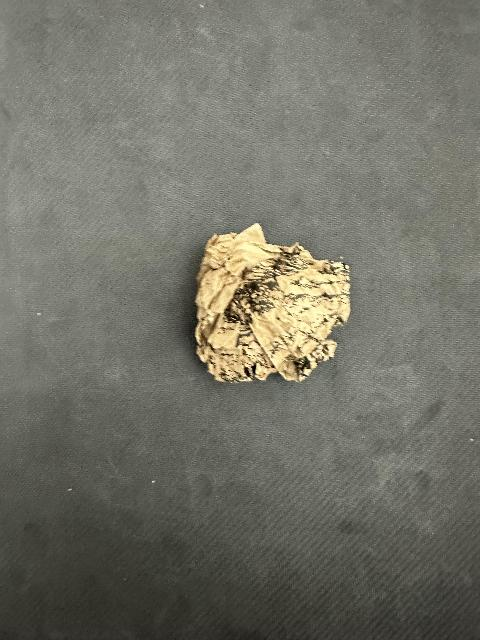Kagit: (190, 224, 354, 391)
